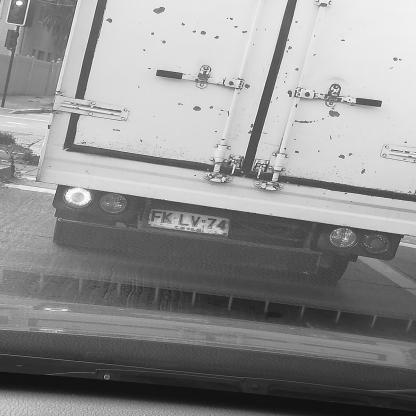Patente: (145, 205, 236, 241)
